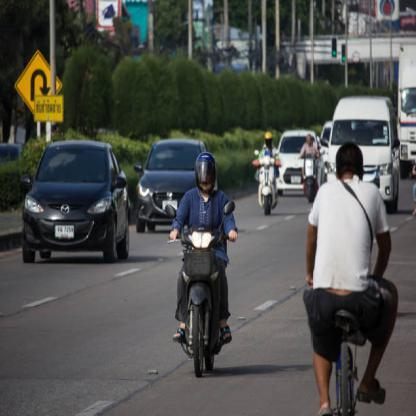Motorcycle: (175, 221, 226, 385), (251, 146, 280, 212)
